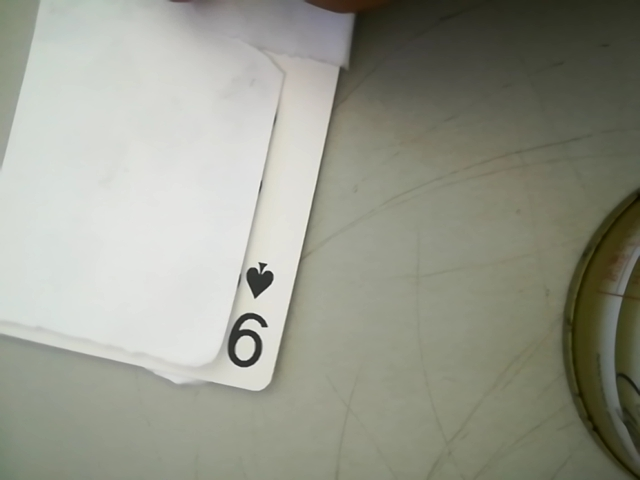ht 9: (215, 245, 284, 383)
